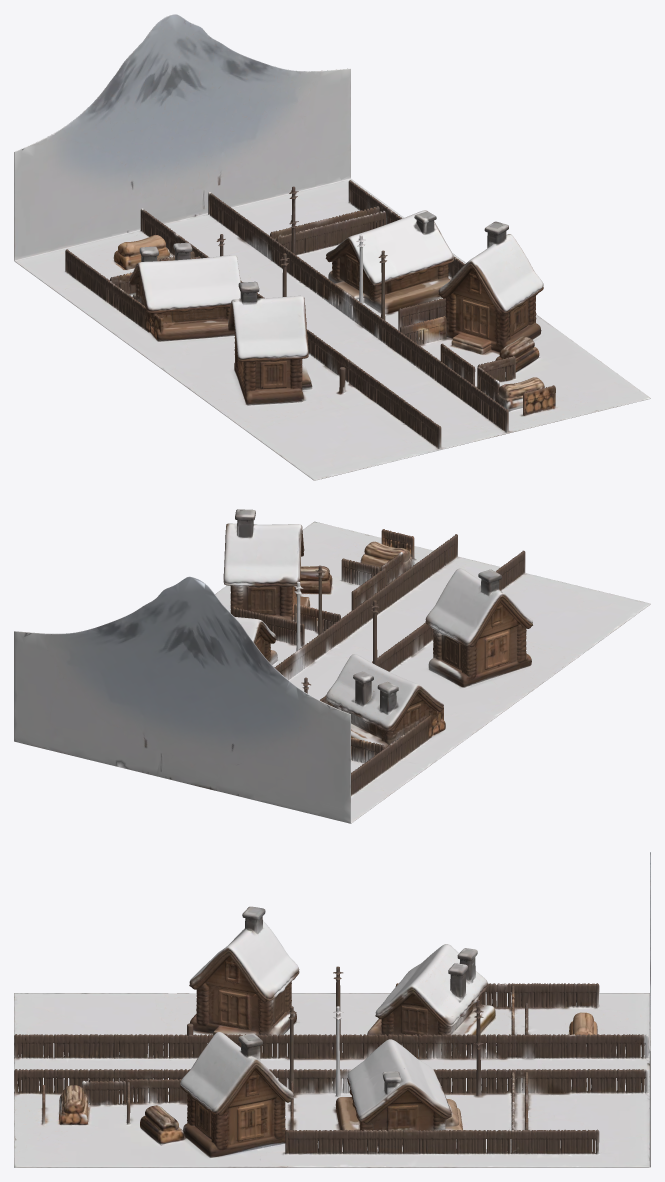
Rendered from snowvillage-visual.glb.
The picture shows the model from 3 angles, top to bottom: view 1: azimuth 30°, elevation 25°; view 2: azimuth 150°, elevation 25°; view 3: azimuth 270°, elevation 25°; orthographic projection. The views are drawn at different scales.
Visible parts, largest first — view 1: node_0; view 2: node_0; view 3: node_0.
Boxes of the visible parts, <box> form: node_0: <box>14,14,650,480</box>; node_0: <box>14,509,650,823</box>; node_0: <box>14,852,650,1167</box>.
Size of the model in its own units: 0.6228 by 0.3681 by 0.9617.
Materials: 1 (1 with a texture image).
